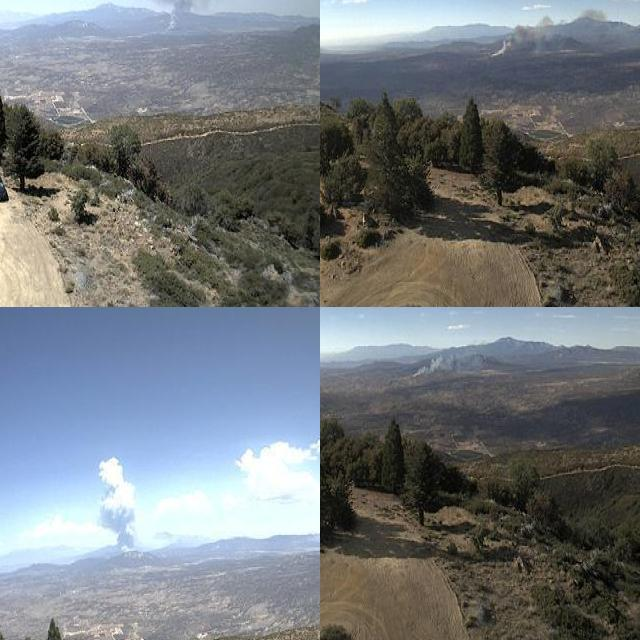smoke: (490, 1, 612, 63), (93, 452, 149, 560), (138, 0, 227, 31), (403, 349, 476, 383)
